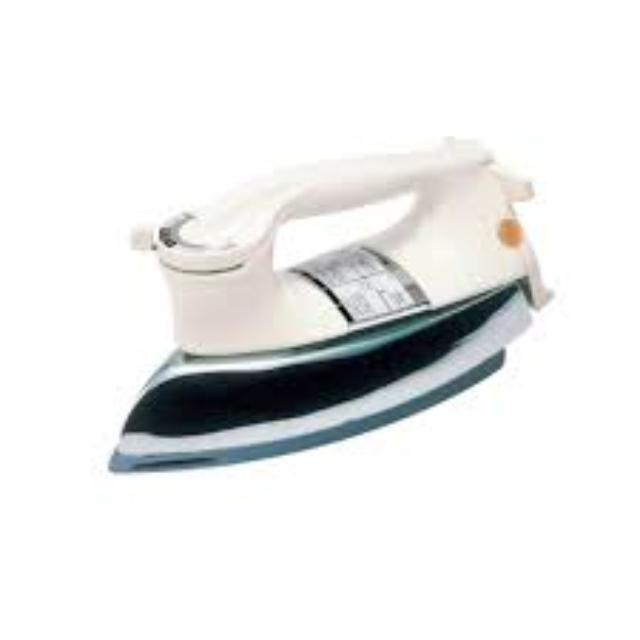Clothes-Iron: (109, 111, 587, 497)
